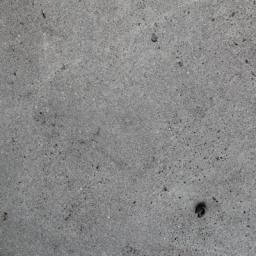FOD: (189, 202, 214, 222)
